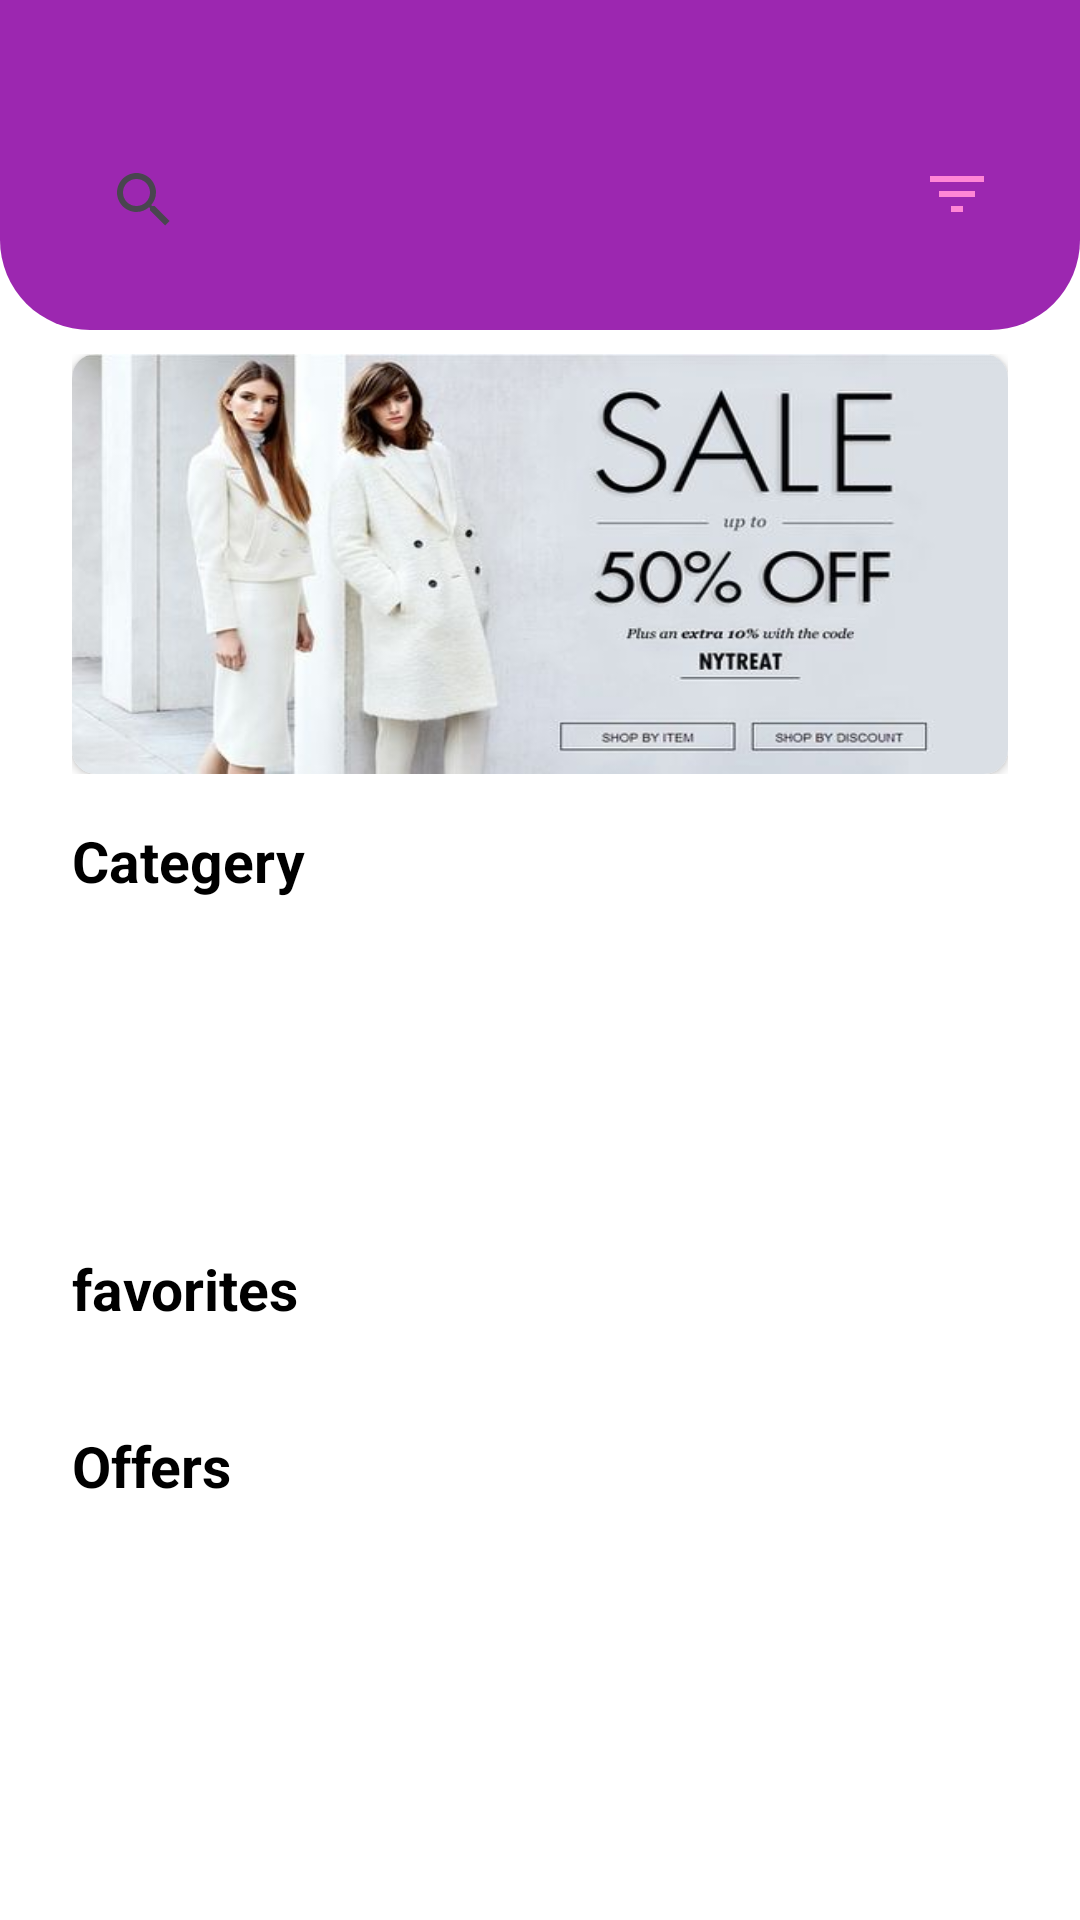

Named icons in this screenshot (1080×1920) and their centers, point (x, y):
filter: point (957, 194)
